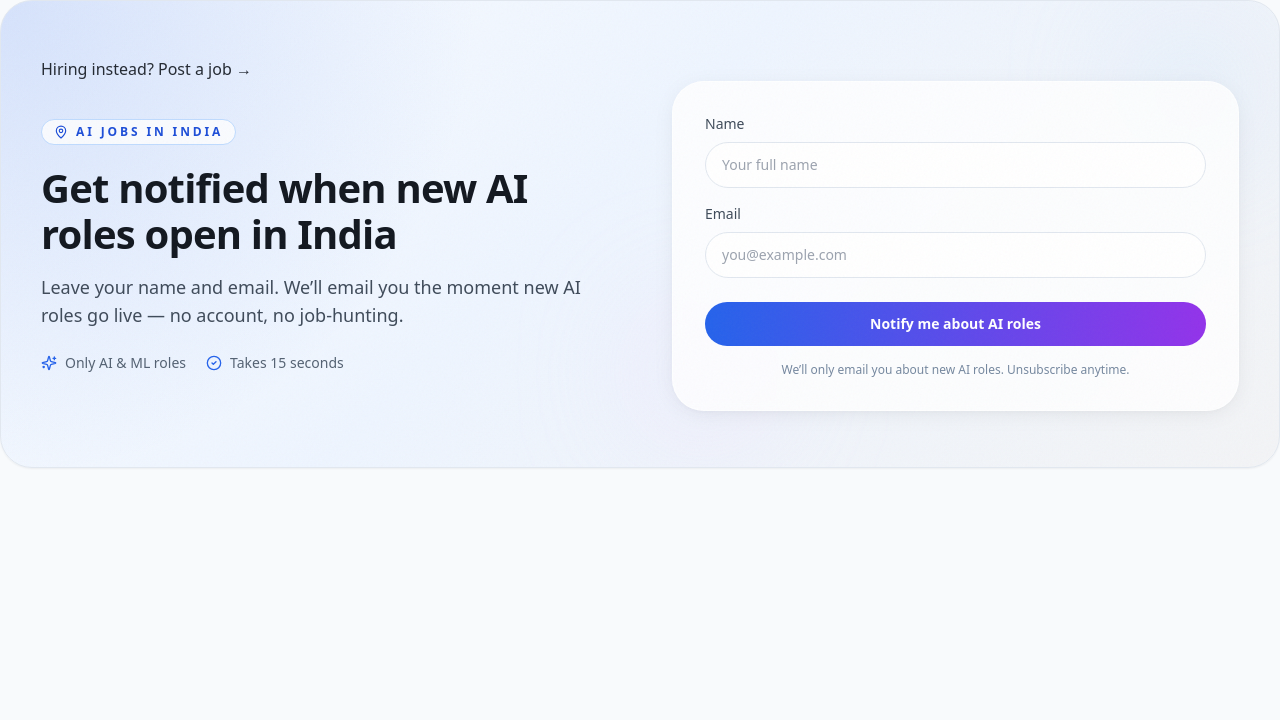
Test: CandidateSignupHero › does not submit when the email is invalid
In the field labelled "Name": x=956, y=165 [705,142,1206,188], type "Ravi Menon"
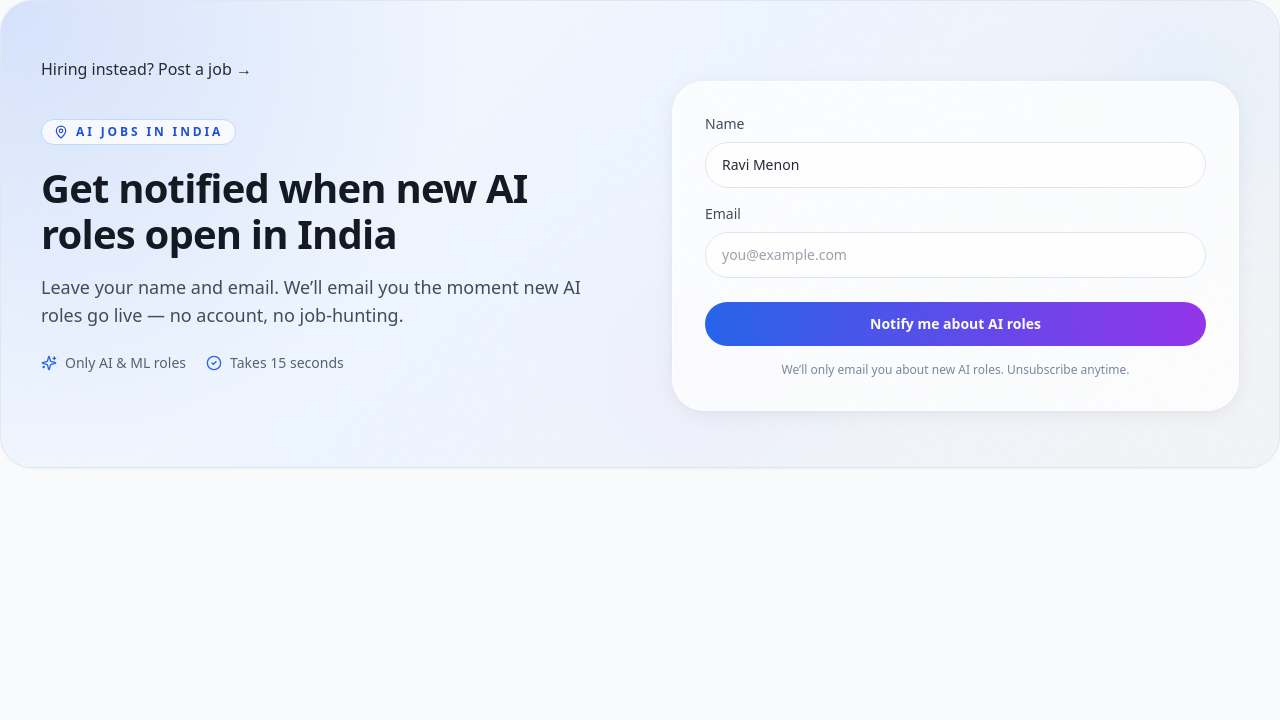
In the field labelled "Email": x=956, y=255 [705,232,1206,278], type "not-an-email"
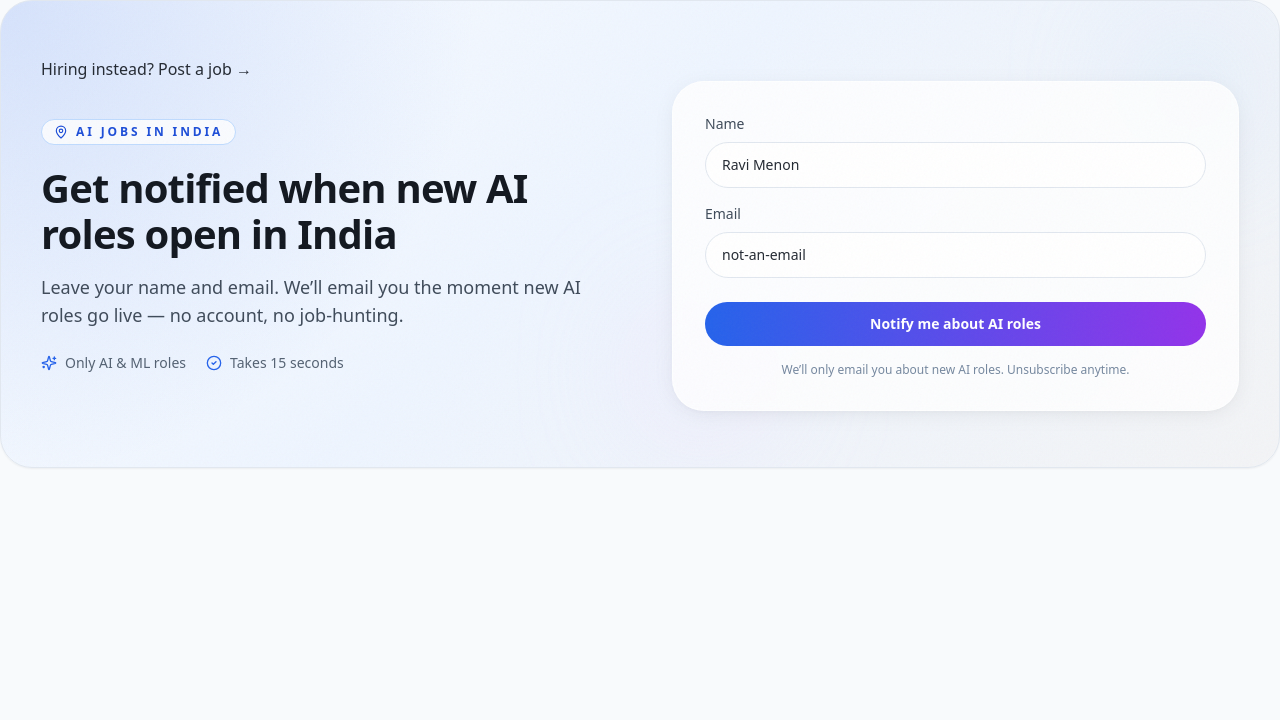
Click the button "Notify me about AI roles": x=956, y=324 [705,302,1206,346]
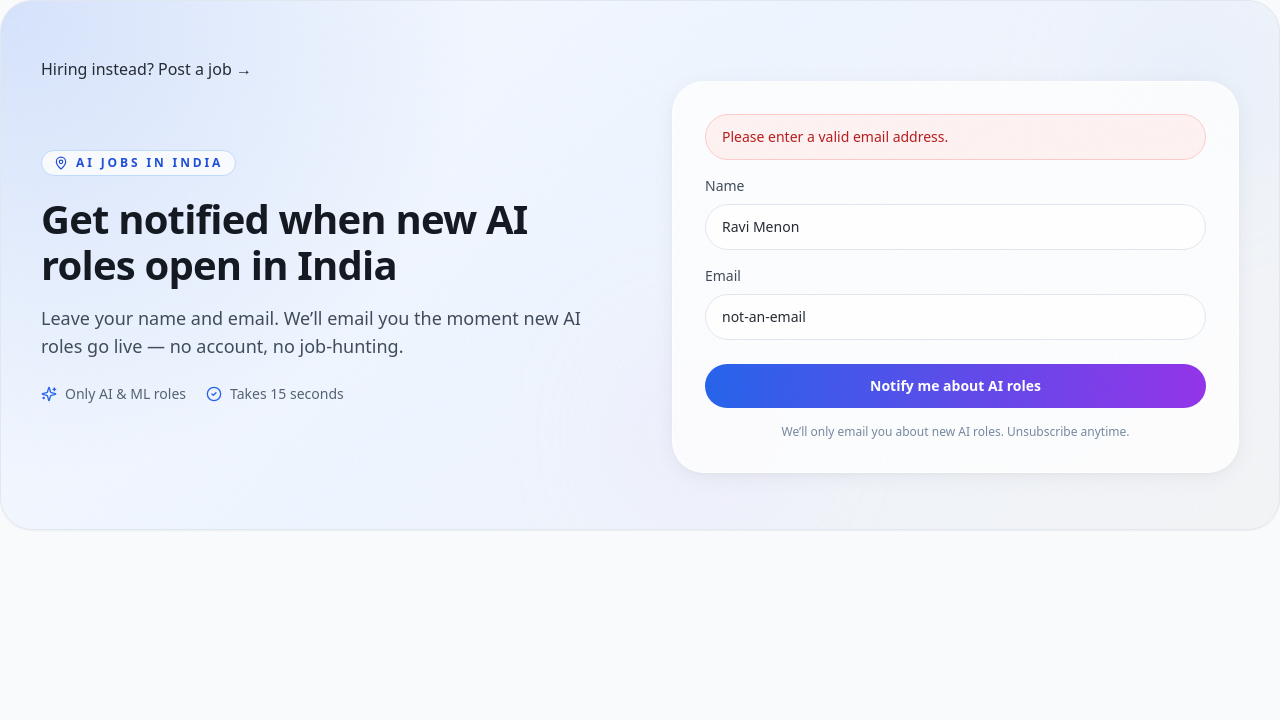
Expected: the text "Please enter a valid email address." is shown, [705,114,1206,160]
